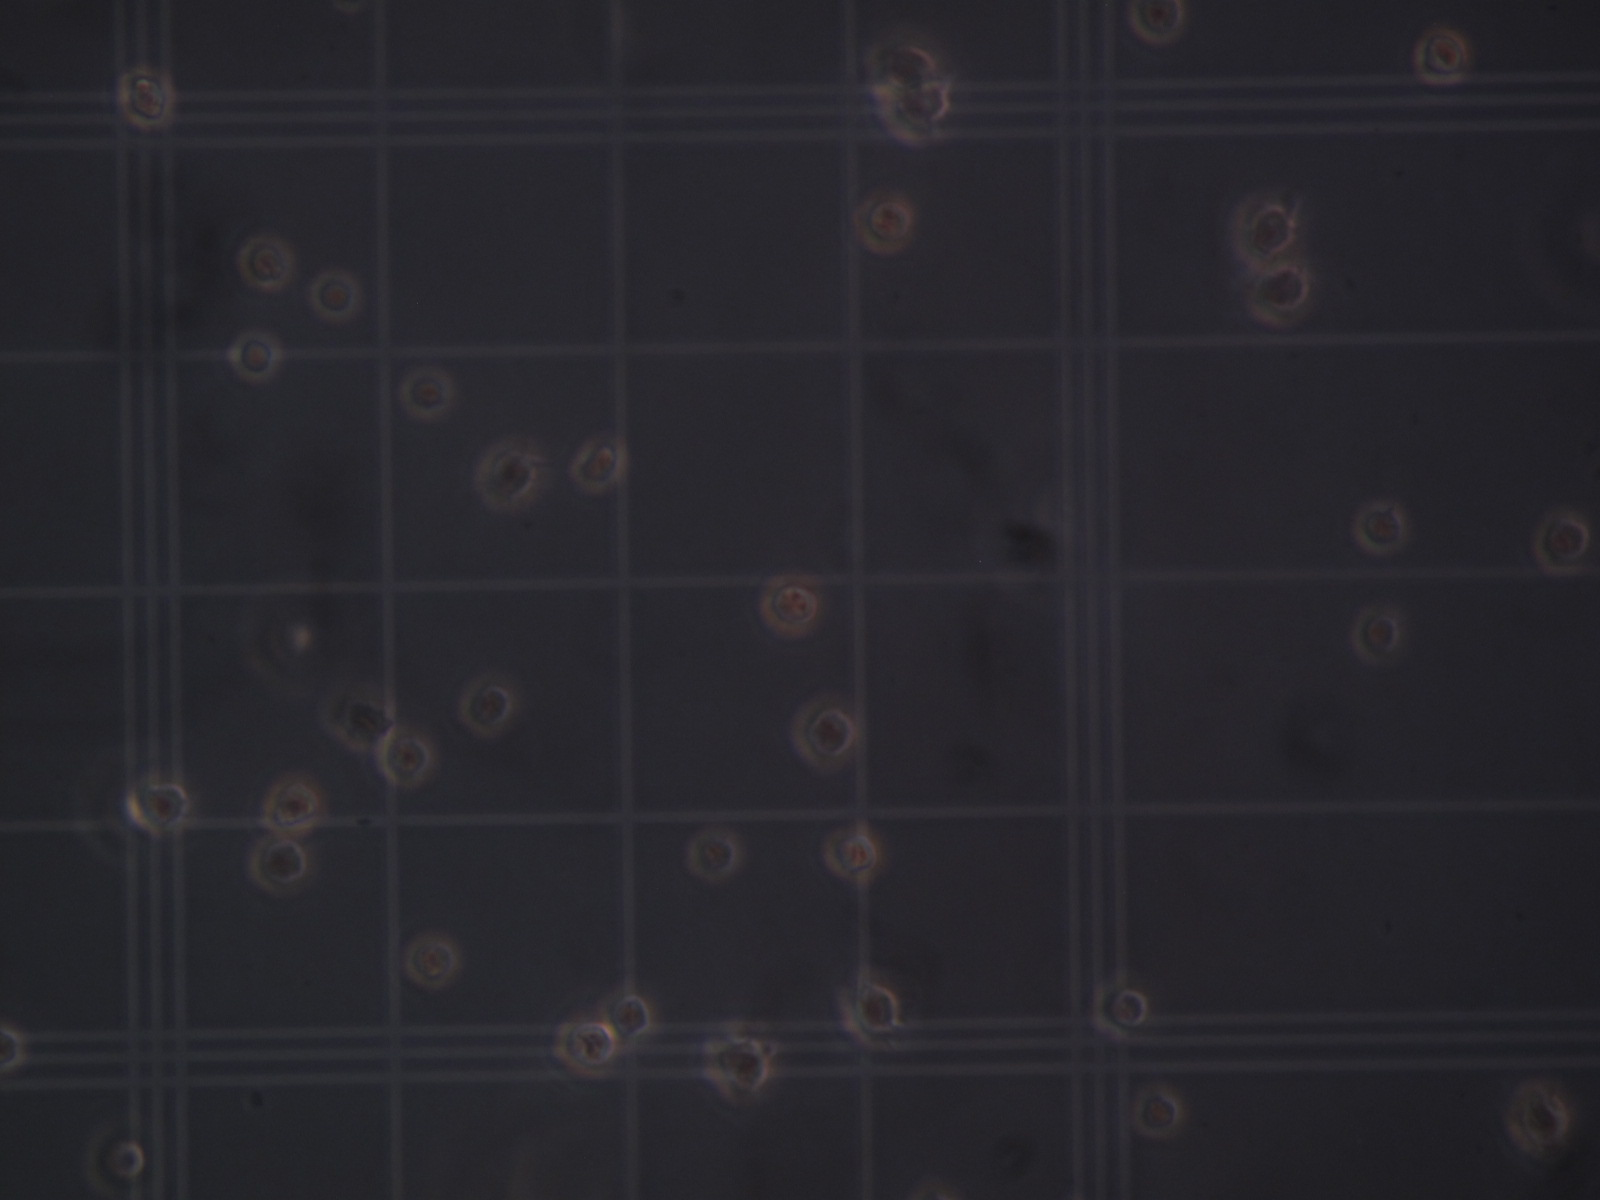hemo: (1231, 195, 1299, 271), (838, 976, 902, 1050), (84, 1123, 146, 1200), (1506, 1082, 1570, 1155), (879, 82, 951, 146), (863, 37, 937, 98), (703, 1036, 770, 1104), (791, 700, 855, 769), (474, 442, 538, 511), (1247, 263, 1311, 328), (328, 692, 396, 753), (553, 1018, 619, 1079), (116, 67, 176, 130), (129, 776, 191, 836), (760, 575, 819, 637), (248, 834, 307, 896), (1533, 512, 1590, 576), (853, 195, 913, 255), (262, 776, 323, 836), (1091, 979, 1149, 1041), (1414, 28, 1471, 84), (821, 827, 879, 882), (236, 234, 294, 290), (459, 678, 513, 737), (378, 730, 433, 787), (598, 987, 653, 1044), (569, 437, 626, 492), (404, 933, 459, 989), (399, 366, 454, 420), (1353, 500, 1407, 555), (687, 828, 740, 881), (1351, 608, 1401, 663), (227, 330, 281, 381), (310, 270, 362, 321), (1134, 1085, 1183, 1138), (1128, 1, 1186, 44), (1, 1018, 26, 1076)
